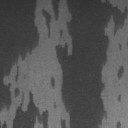red iron: (50, 0, 128, 128), (0, 0, 50, 128), (42, 0, 61, 38), (116, 66, 124, 78), (116, 121, 122, 128), (117, 94, 122, 102), (53, 100, 57, 110), (118, 43, 123, 50)
